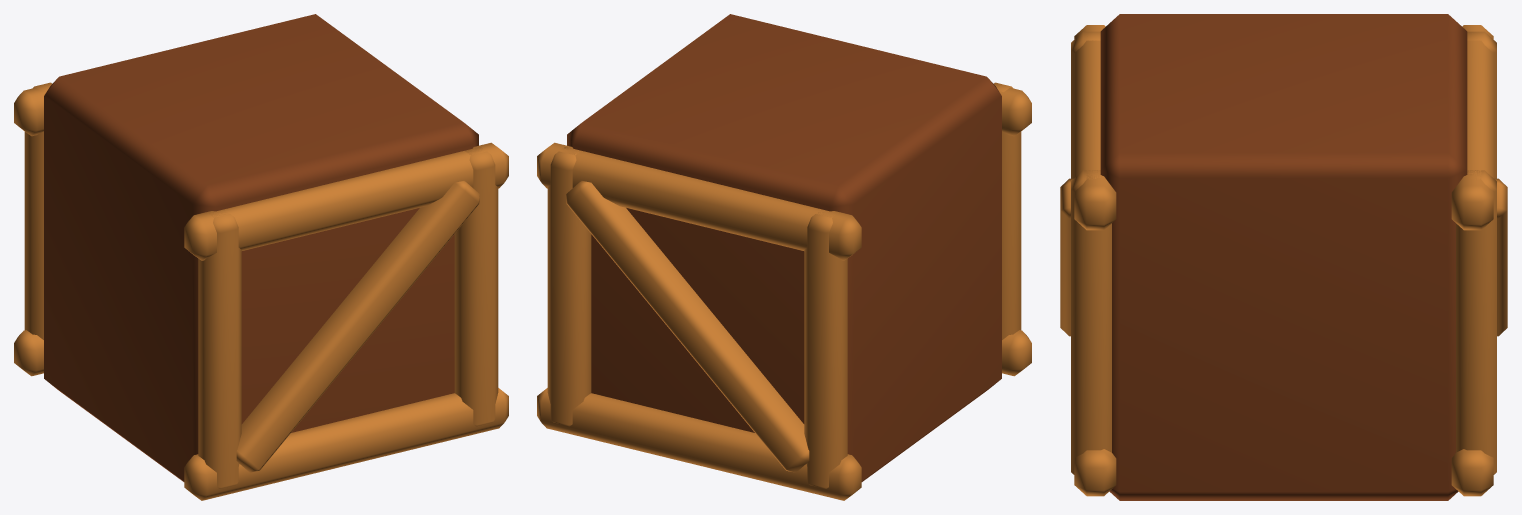
The model's file is crate.glb.
3 renders of one model, left to right at view 1: azimuth 30°, elevation 25°; view 2: azimuth 150°, elevation 25°; view 3: azimuth 270°, elevation 25°, orthographic. The views are drawn at different scales.
Parts seen in each view (by area): view 1: box, brace, rim.002, rim, upright, upright.002, upright.001, rim.003, rim.001; view 2: box, brace.001, rim.003, rim.001, upright.001, upright.003, upright, rim.002, rim; view 3: box, upright.003, upright.002, rim.002, rim.003, rim, rim.001, brace, brace.001, upright, upright.001.
Part boxes in pixels (left/top/right/bottom): box: left=44, top=14, right=478, bottom=481; brace: left=236, top=181, right=479, bottom=472; rim.002: left=184, top=142, right=508, bottom=260; rim: left=184, top=388, right=508, bottom=500; upright: left=198, top=210, right=241, bottom=488; upright.002: left=454, top=147, right=498, bottom=426; upright.001: left=24, top=82, right=51, bottom=339; rim.003: left=14, top=87, right=46, bottom=136; rim.001: left=14, top=330, right=43, bottom=376; box: left=567, top=14, right=1001, bottom=481; brace.001: left=566, top=181, right=809, bottom=472; rim.003: left=537, top=142, right=861, bottom=260; rim.001: left=537, top=388, right=861, bottom=500; upright.001: left=804, top=212, right=847, bottom=488; upright.003: left=547, top=147, right=591, bottom=426; upright: left=994, top=82, right=1021, bottom=339; rim.002: left=999, top=87, right=1031, bottom=136; rim: left=1002, top=330, right=1031, bottom=376; box: left=1100, top=14, right=1467, bottom=500; upright.003: left=1456, top=170, right=1496, bottom=474; upright.002: left=1071, top=170, right=1111, bottom=474; rim.002: left=1074, top=25, right=1116, bottom=230; rim.003: left=1451, top=25, right=1493, bottom=230; rim: left=1074, top=449, right=1116, bottom=496; rim.001: left=1451, top=449, right=1493, bottom=496; brace: left=1060, top=178, right=1073, bottom=336; brace.001: left=1494, top=178, right=1507, bottom=336; upright: left=1071, top=31, right=1100, bottom=178; upright.001: left=1467, top=31, right=1496, bottom=178.
Size of the model in its own units: 1.16 by 1.1 by 1.28.
